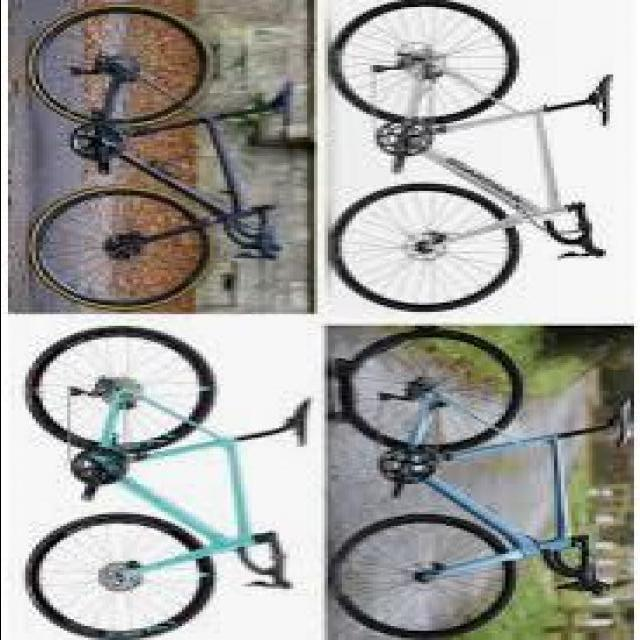bicycle: (328, 331, 634, 640), (21, 329, 317, 639), (324, 8, 616, 318), (22, 6, 300, 311)
